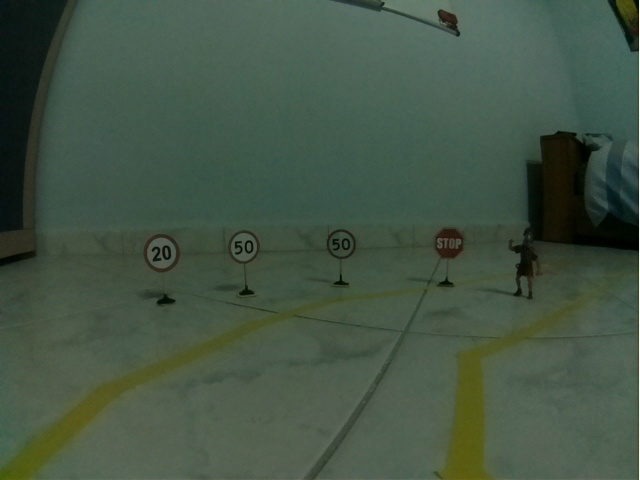Person: (508, 227, 543, 300)
Speed Limit 20: (143, 234, 180, 273)
Speed Limit 50: (228, 230, 260, 264), (327, 229, 356, 259)
Stop: (434, 228, 464, 259)
